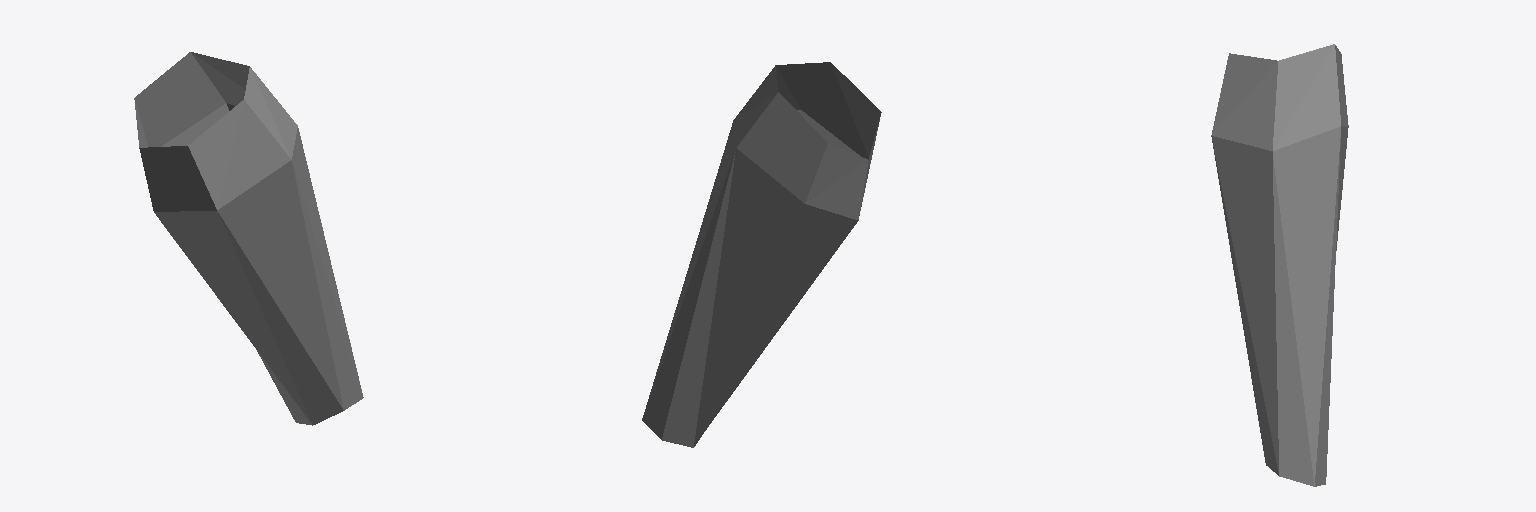
The model's file is CodoIzq.obj.
3 views of the same model, side by side, from view 1: azimuth 30°, elevation 25°; view 2: azimuth 150°, elevation 25°; view 3: azimuth 270°, elevation 25° (orthographic).
Visible parts, largest first — view 1: CodoIzq_Mesh_0030.005; view 2: CodoIzq_Mesh_0030.005; view 3: CodoIzq_Mesh_0030.005.
Part boxes in pixels (left/top/right/bottom): CodoIzq_Mesh_0030.005: left=134, top=52, right=363, bottom=425; CodoIzq_Mesh_0030.005: left=642, top=62, right=881, bottom=447; CodoIzq_Mesh_0030.005: left=1211, top=44, right=1348, bottom=486.
Size of the model in its own units: 5 by 8.5 by 2.73.